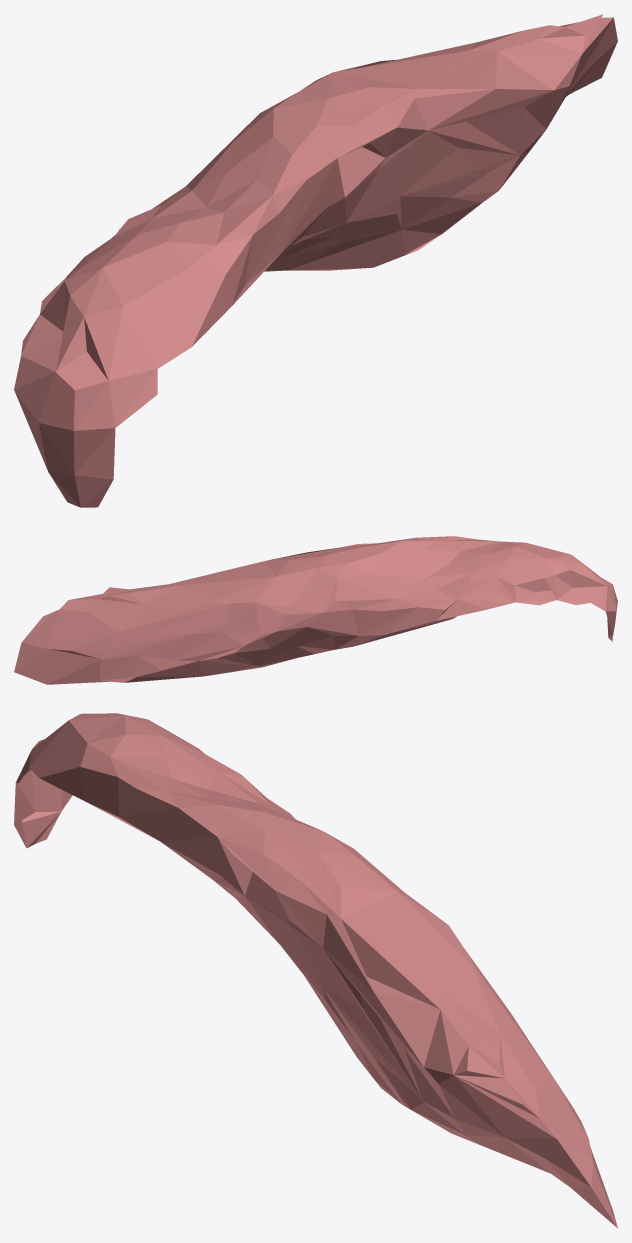
Rendered from Supraspinatus_muscle.r.glb.
3 renders of one model, top to bottom at view 1: azimuth 30°, elevation 25°; view 2: azimuth 150°, elevation 25°; view 3: azimuth 270°, elevation 25°, orthographic. The views are drawn at different scales.
Parts seen in each view (by area): view 1: Supraspinatus_muscle.r; view 2: Supraspinatus_muscle.r; view 3: Supraspinatus_muscle.r.
Part boxes in pixels (x1,y1,x2,y2): Supraspinatus_muscle.r: (14,14,617,507); Supraspinatus_muscle.r: (14,536,617,684); Supraspinatus_muscle.r: (14,713,617,1228).
Size of the model in its own units: 0.1211 by 0.0308 by 0.0825.
